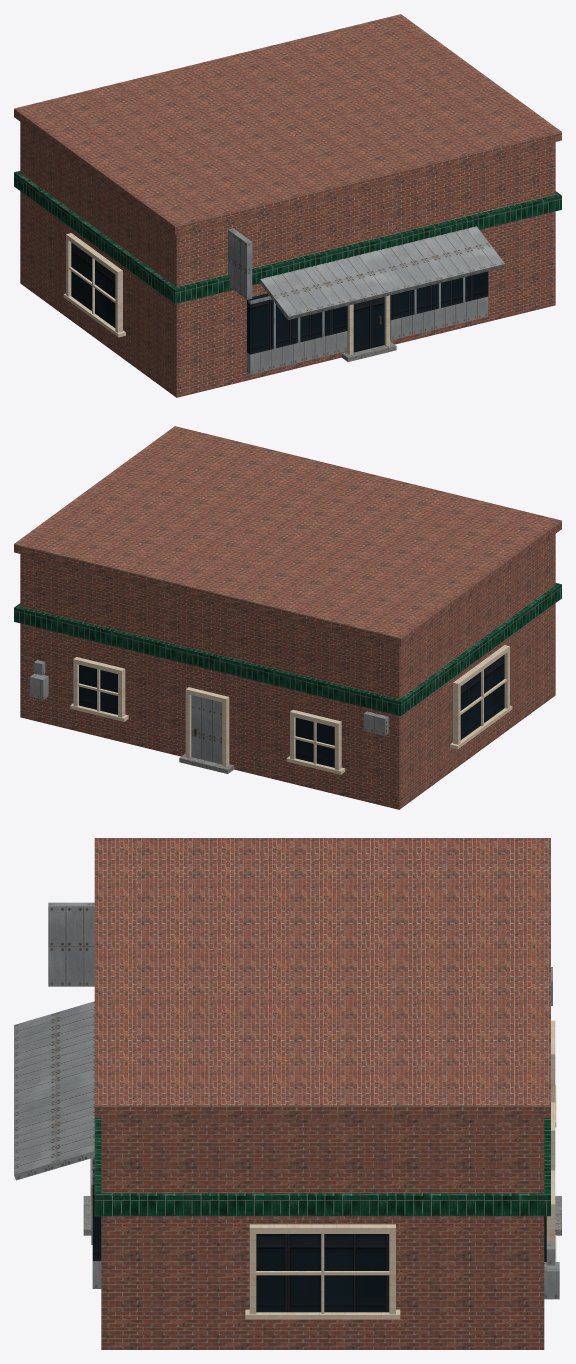
Rendered from paws-claws-pet-store_lod0.gltf.
3 renders of one model, top to bottom at view 1: azimuth 30°, elevation 25°; view 2: azimuth 150°, elevation 25°; view 3: azimuth 270°, elevation 25°, orthographic. The views are drawn at different scales.
Visible parts, largest first — view 1: paws-claws-pet-store__parapet, paws-claws-pet-store_main, paws-claws-pet-store__awning, paws-claws-pet-store_fen_07-glass-curtain-blue_1_t, paws-claws-pet-store__tile_band, paws-claws-pet-store_fen_14-steel-panel_4, paws-claws-pet-store_fen_04-limestone_0, paws-claws-pet-store__blade_sign; view 2: paws-claws-pet-store__parapet, paws-claws-pet-store_main, paws-claws-pet-store__tile_band, paws-claws-pet-store_fen_04-limestone_0, paws-claws-pet-store_fen_07-glass-curtain-blue_1_t, paws-claws-pet-store_fen_14-steel-panel_4; view 3: paws-claws-pet-store__parapet, paws-claws-pet-store_main, paws-claws-pet-store__awning, paws-claws-pet-store__tile_band, paws-claws-pet-store_fen_07-glass-curtain-blue_1_t, paws-claws-pet-store_fen_04-limestone_0, paws-claws-pet-store__blade_sign, paws-claws-pet-store_fen_14-steel-panel_4.
Boxes of the visible parts, x1,y1,x2,y2 form: paws-claws-pet-store__parapet: (14, 14, 561, 234); paws-claws-pet-store_main: (20, 122, 555, 397); paws-claws-pet-store__awning: (260, 226, 504, 319); paws-claws-pet-store_fen_07-glass-curtain-blue_1_t: (71, 242, 488, 354); paws-claws-pet-store__tile_band: (14, 171, 561, 303); paws-claws-pet-store_fen_14-steel-panel_4: (247, 277, 488, 374); paws-claws-pet-store_fen_04-limestone_0: (63, 233, 390, 354); paws-claws-pet-store__blade_sign: (228, 228, 252, 299); paws-claws-pet-store__parapet: (14, 426, 561, 646); paws-claws-pet-store_main: (20, 534, 555, 809); paws-claws-pet-store__tile_band: (14, 583, 561, 715); paws-claws-pet-store_fen_04-limestone_0: (70, 645, 512, 774); paws-claws-pet-store_fen_07-glass-curtain-blue_1_t: (79, 654, 504, 767); paws-claws-pet-store_fen_14-steel-panel_4: (29, 660, 388, 764); paws-claws-pet-store__parapet: (94, 838, 550, 1117); paws-claws-pet-store_main: (101, 1118, 544, 1349); paws-claws-pet-store__awning: (14, 1001, 94, 1180); paws-claws-pet-store__tile_band: (94, 1118, 550, 1216); paws-claws-pet-store_fen_07-glass-curtain-blue_1_t: (92, 1157, 546, 1312); paws-claws-pet-store_fen_04-limestone_0: (90, 1020, 556, 1319); paws-claws-pet-store__blade_sign: (48, 902, 94, 986); paws-claws-pet-store_fen_14-steel-panel_4: (91, 967, 559, 1299).
Size of the model in its own units: 14.55 by 6.15 by 12.37.
